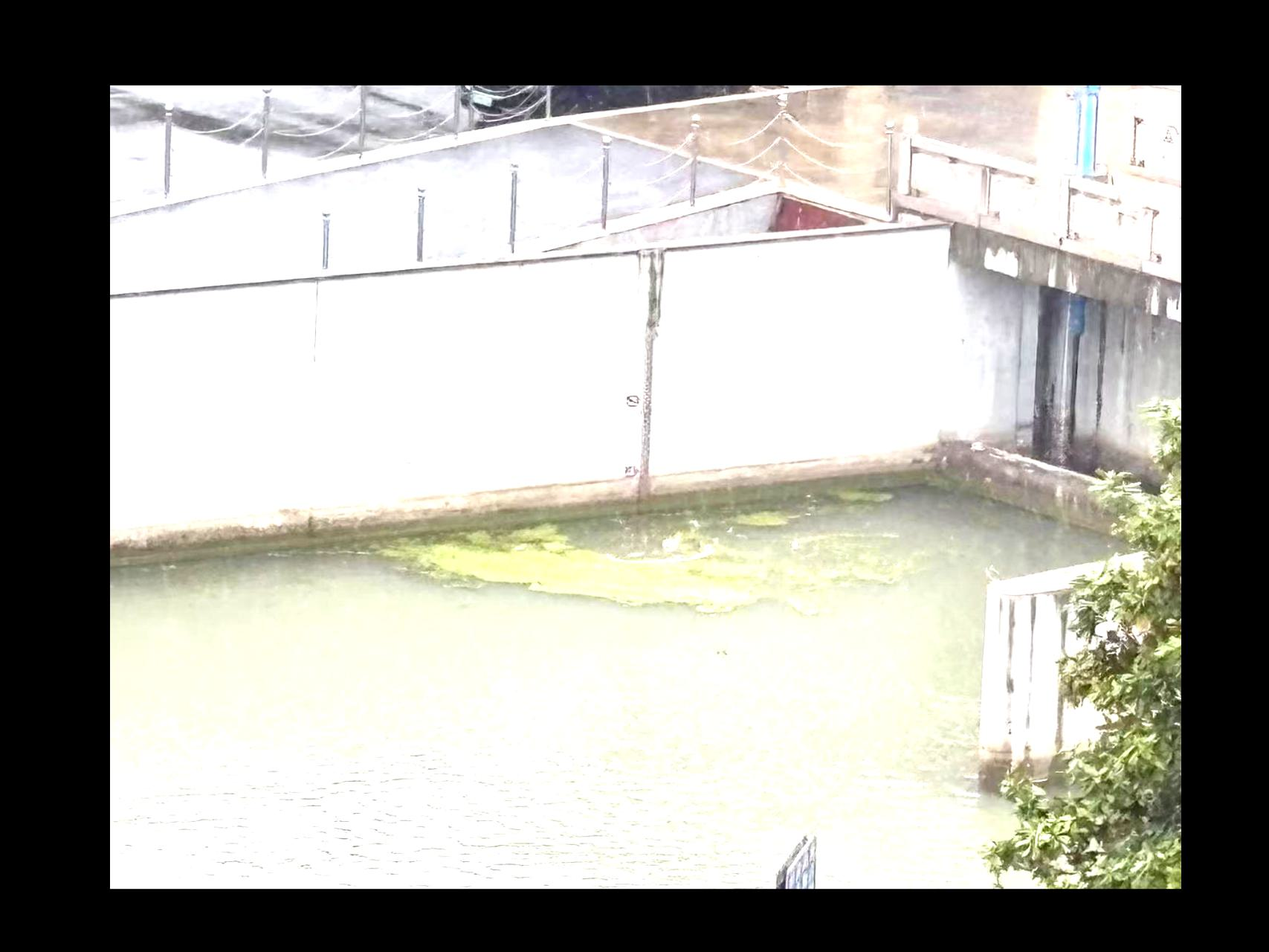Other: (408, 523, 561, 576), (616, 554, 758, 604), (561, 549, 610, 596), (724, 505, 794, 530), (834, 487, 896, 504)
Plastic wastes: (659, 536, 678, 548), (790, 538, 801, 552)
